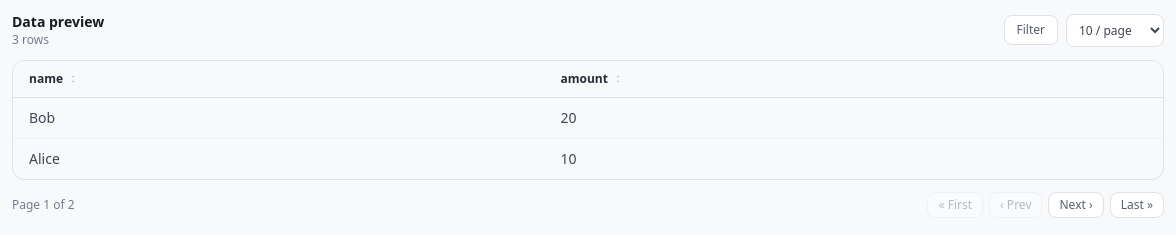
Scenario: DataPreview › paginates rows according to the configured page size
expect the text "Page 1 of 2" is shown: met, box [12, 197, 75, 213]
Step 1. Click the button with aria-label "Next page" → [1076, 205], box [1048, 192, 1104, 218]
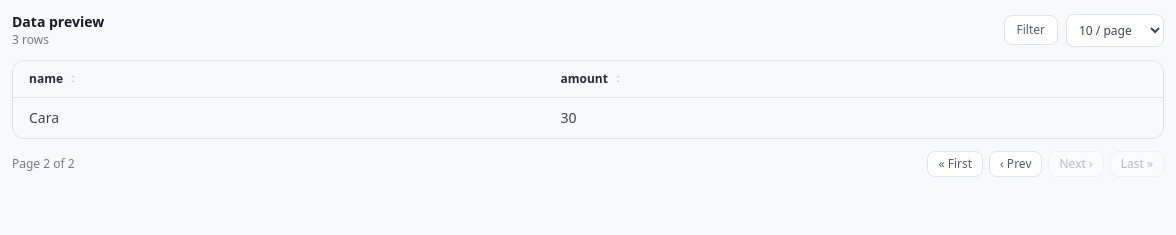
expect the text "Page 2 of 2" is shown: met, box [12, 156, 75, 172]
